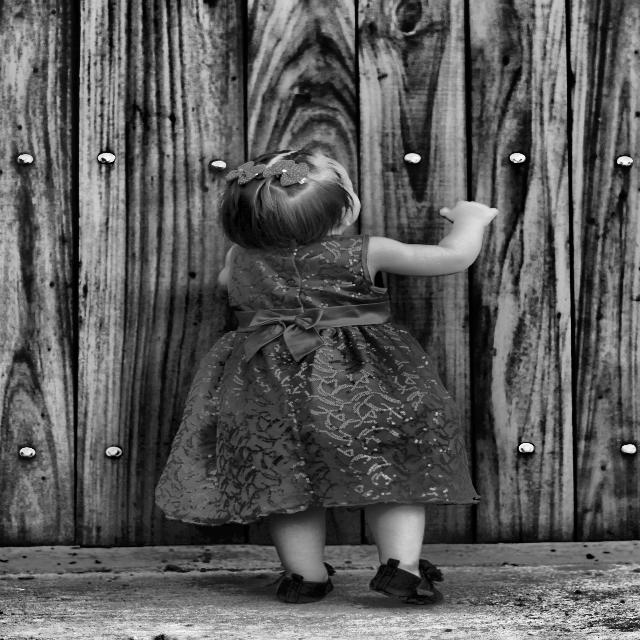Human: (186, 134, 506, 629)
